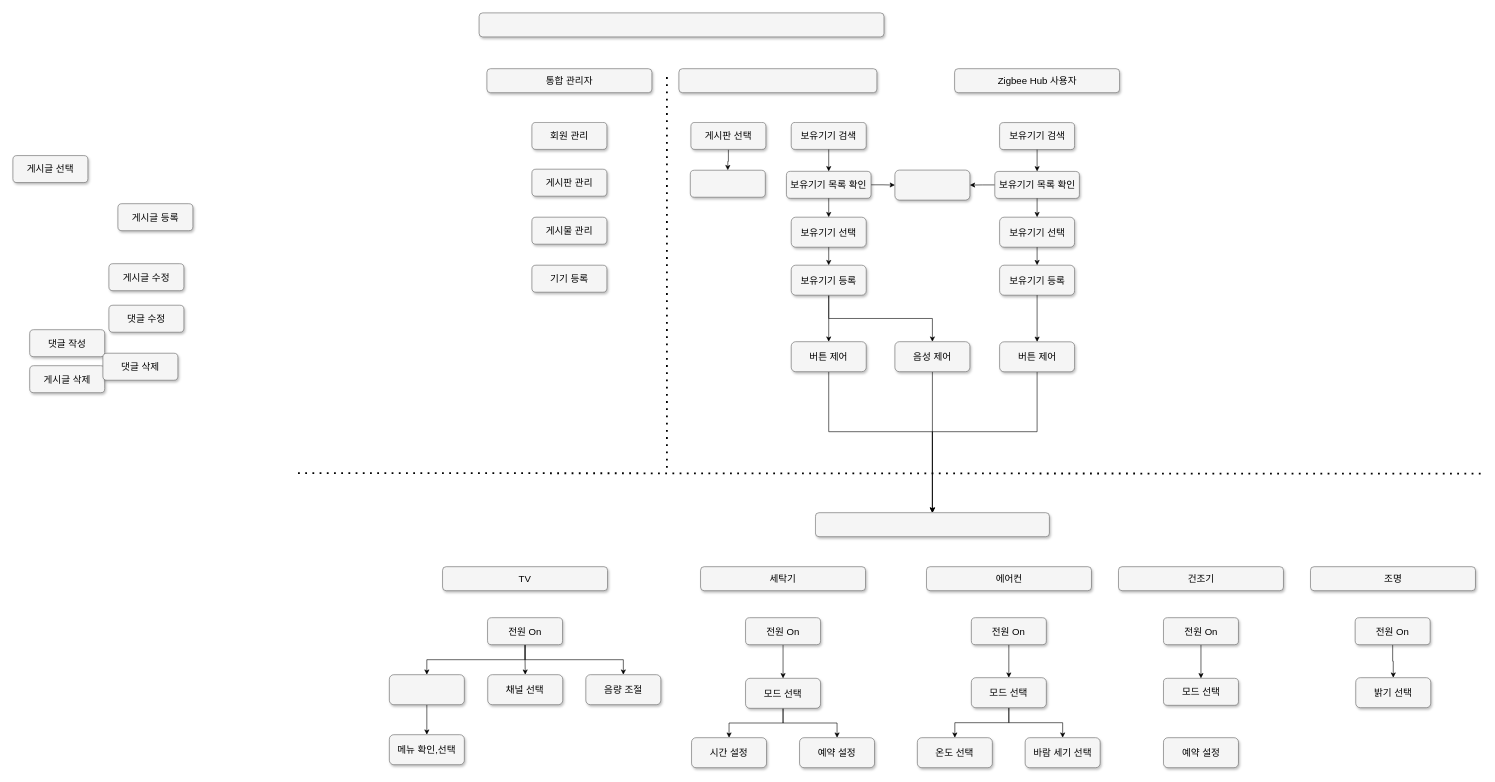
The diagram is 1495 pixels wide and 782 high, and some of its shapes have lost their labels. The shapes that lost their labels are listed below. From the top down, each one's centre as x and y in pixels, then its label:
[682,25]: Application
[778,81]: 일반 사용자
[728,184]: 게시글 이용
[933,185]: 보유기기 삭제
[932,525]: IoT 기기 제어
[427,690]: 메뉴 검색
